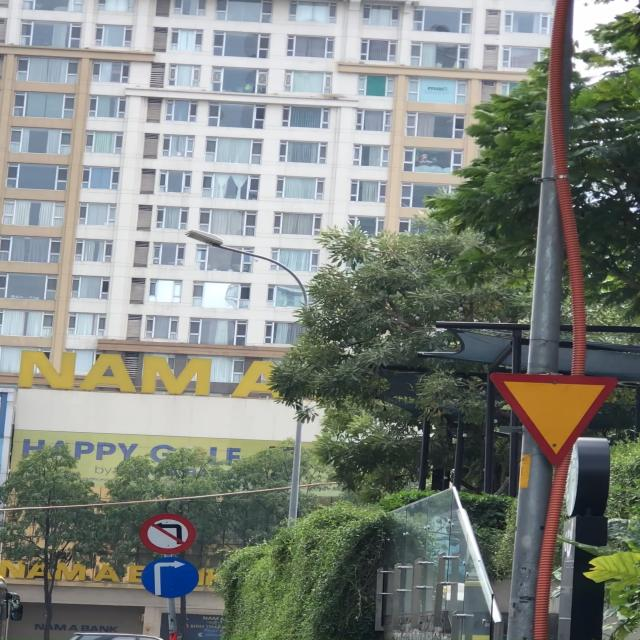Bien bao cam re trai: (138, 512, 198, 555)
Bien bao giao nhau voi duong uu tien: (487, 368, 619, 471)
Bien bao huong di phai theo: (139, 553, 201, 605)
